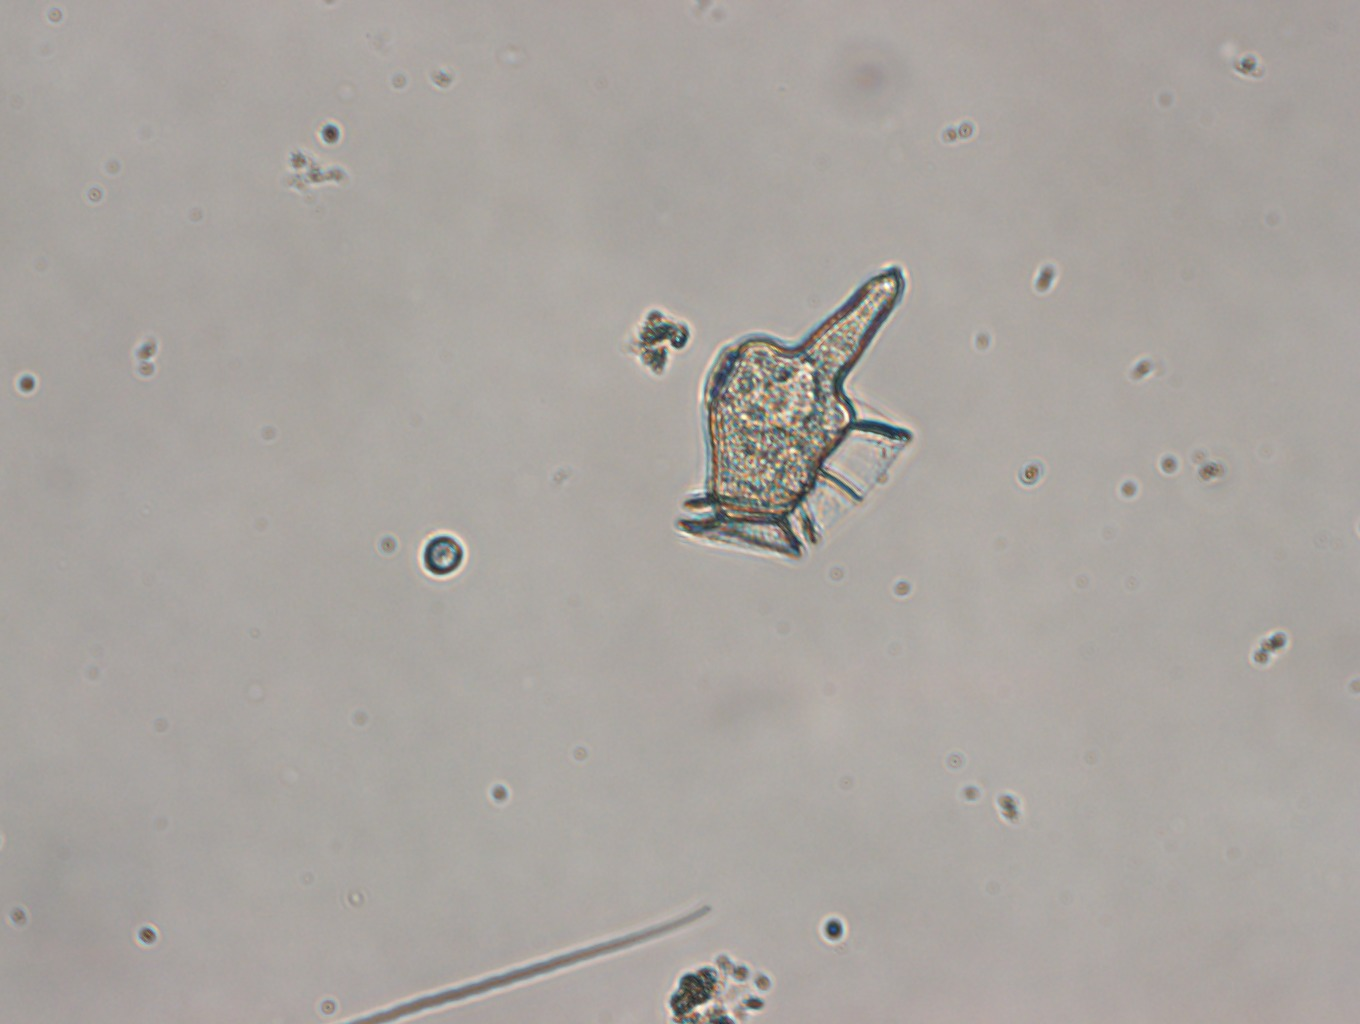dinophysis caudata: (667, 258, 916, 571)
